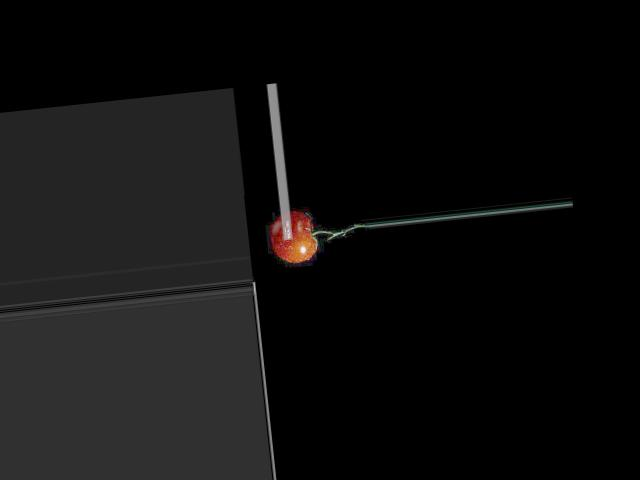tomato: (270, 210, 317, 264)
